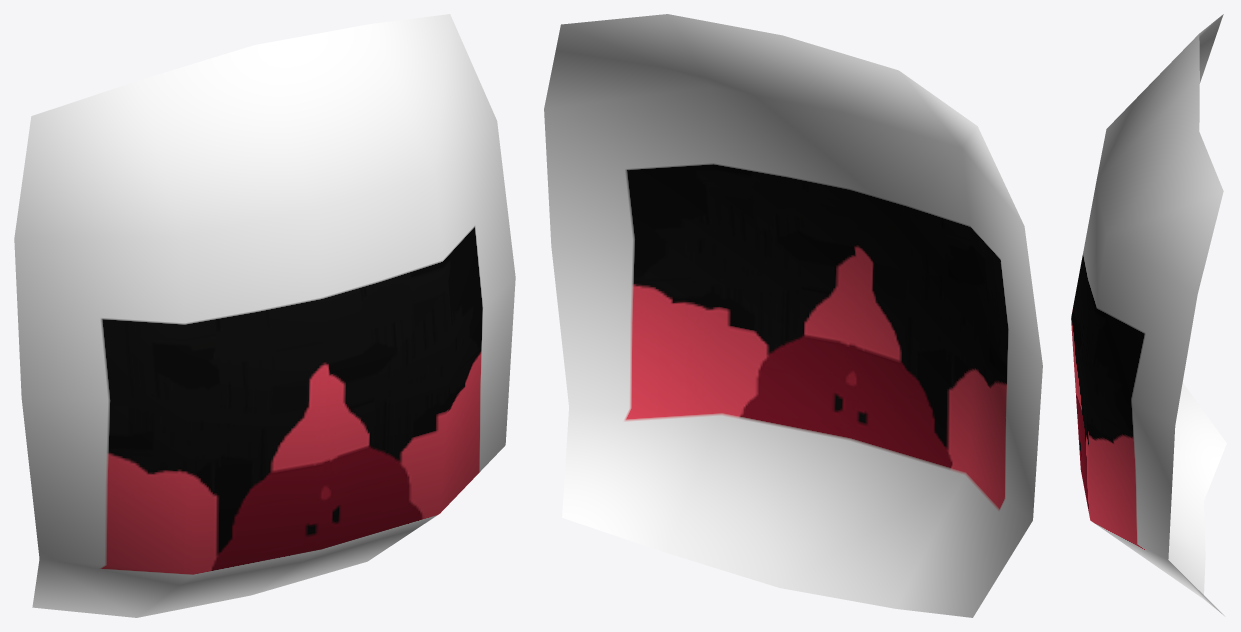
File: FaceTextures.fbx
The picture shows the model from 3 angles, left to right: view 1: azimuth 30°, elevation 25°; view 2: azimuth 150°, elevation 25°; view 3: azimuth 270°, elevation 25°; orthographic projection. The views are drawn at different scales.
Visible parts, largest first — view 1: Blow; view 2: Blow; view 3: Blow.
Part boxes in pixels (x1,y1,x2,y2): Blow: (14,14,515,617); Blow: (544,14,1042,617); Blow: (1071,14,1226,615).
Size of the model in its own units: 1.1 by 1.18 by 0.348.
